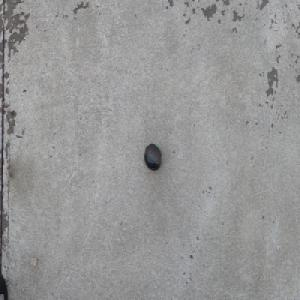FuelCap: (143, 142, 162, 171)
